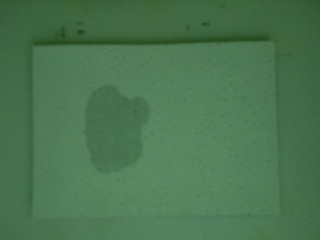Water_detected: (98, 103, 140, 163)
